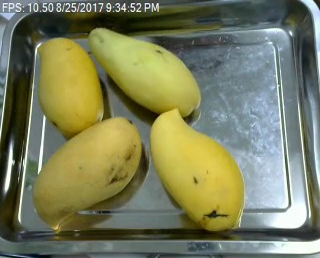Mango: (144, 108, 264, 239), (28, 117, 150, 233), (87, 17, 206, 121), (24, 30, 105, 139)
